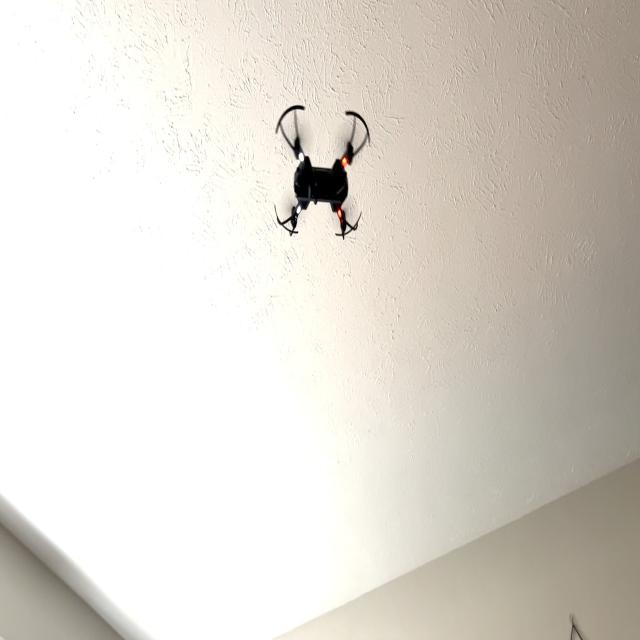drone: (262, 91, 377, 256)
